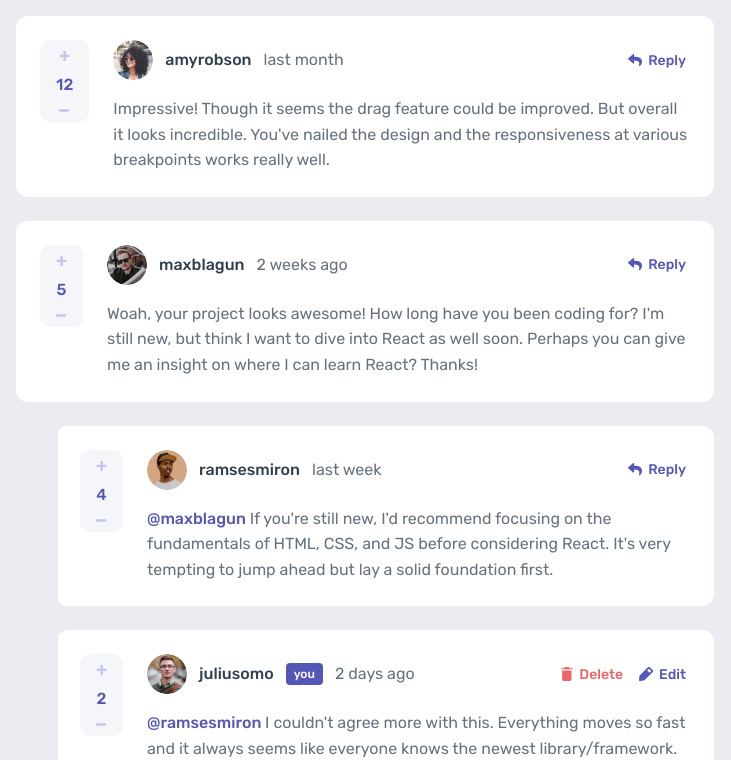
App integration › downvote decrements score
Click the button named "Downvote" below "12": click(65, 110) [59,109,70,112]
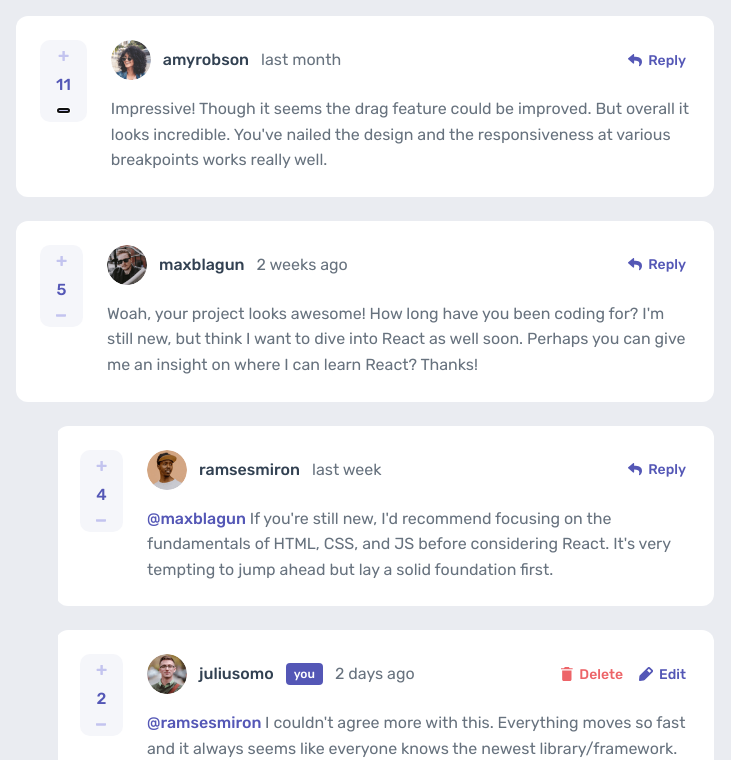
Check: the text "11" is shown, box [56,73,71,97]
